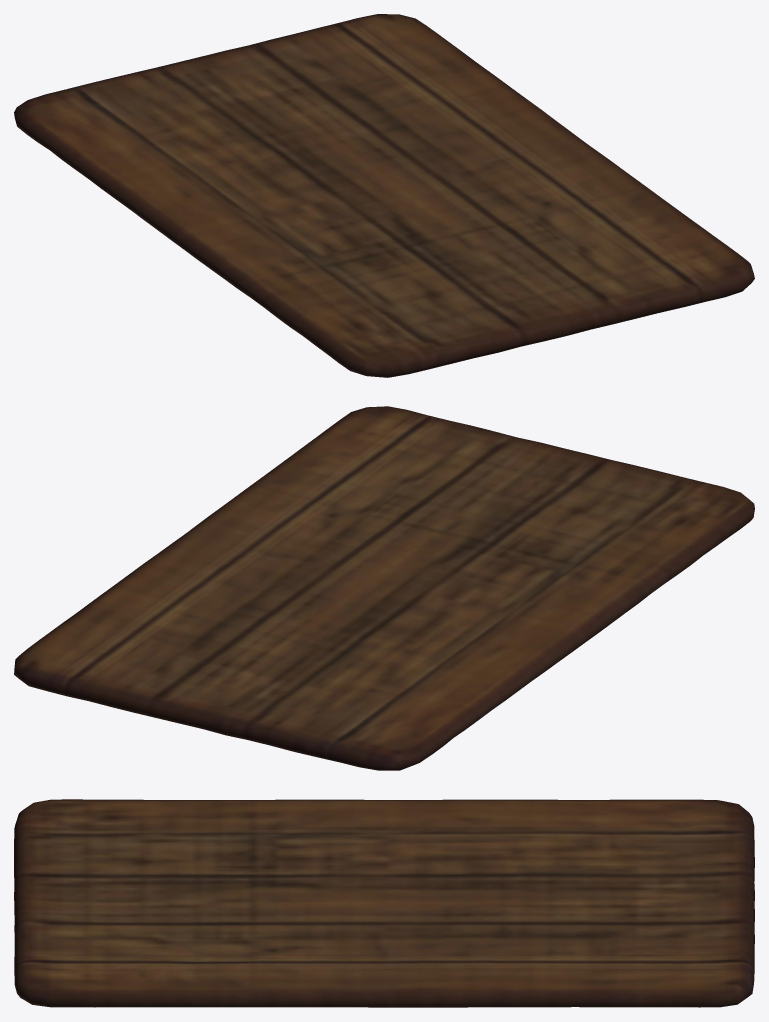
File: f5fc8d0ea9ba_old_wooden_board__3.obj
The picture shows the model from 3 angles, top to bottom: view 1: azimuth 30°, elevation 25°; view 2: azimuth 150°, elevation 25°; view 3: azimuth 270°, elevation 25°; orthographic projection.
Visible parts, largest first — view 1: mesh; view 2: mesh; view 3: mesh.
Boxes of the visible parts, left/top/right/bottom form: mesh: left=14, top=14, right=754, bottom=377; mesh: left=14, top=406, right=754, bottom=770; mesh: left=14, top=799, right=754, bottom=1007.
Bounding box in the file's own units: 0.6362 × 0.0282 × 0.9995.
Materials: 1 (1 with a texture image).
